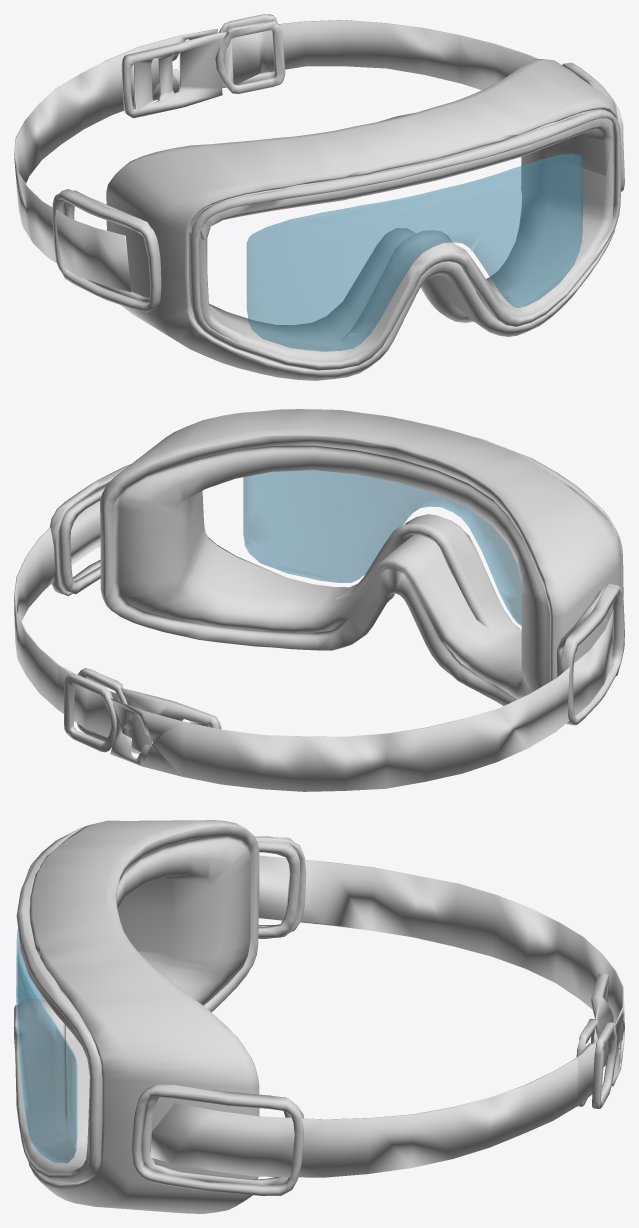
File: PPE_A_Goggle.fbx
3 renders of one model, top to bottom at view 1: azimuth 30°, elevation 25°; view 2: azimuth 150°, elevation 25°; view 3: azimuth 270°, elevation 25°, orthographic. The views are drawn at different scales.
Visible parts, largest first — view 1: tripo_part_13, Glass_Lens, tripo_part_1, tripo_part_6, tripo_part_2, tripo_part_8; view 2: tripo_part_13, tripo_part_6, Glass_Lens, tripo_part_1, tripo_part_2, tripo_part_8; view 3: tripo_part_13, tripo_part_1, tripo_part_6, Glass_Lens, tripo_part_8, tripo_part_2.
Boxes of the visible parts, x1,y1,x2,y2 form: tripo_part_13: (106, 59, 621, 380); Glass_Lens: (246, 153, 582, 351); tripo_part_1: (121, 20, 538, 118); tripo_part_6: (14, 14, 277, 292); tripo_part_2: (52, 189, 161, 312); tripo_part_8: (562, 62, 624, 191); tripo_part_13: (100, 409, 623, 705); tripo_part_6: (64, 610, 613, 791); Glass_Lens: (243, 470, 521, 625); tripo_part_1: (14, 500, 221, 754); tripo_part_2: (557, 583, 624, 725); tripo_part_8: (49, 464, 130, 595); tripo_part_13: (14, 820, 259, 1213); tripo_part_1: (150, 973, 613, 1177); tripo_part_6: (259, 855, 624, 1108); Glass_Lens: (16, 929, 77, 1163); tripo_part_8: (131, 1084, 303, 1195); tripo_part_2: (255, 836, 306, 938).
Bounding box in the file's own units: 1 × 0.4129 × 0.9452.
